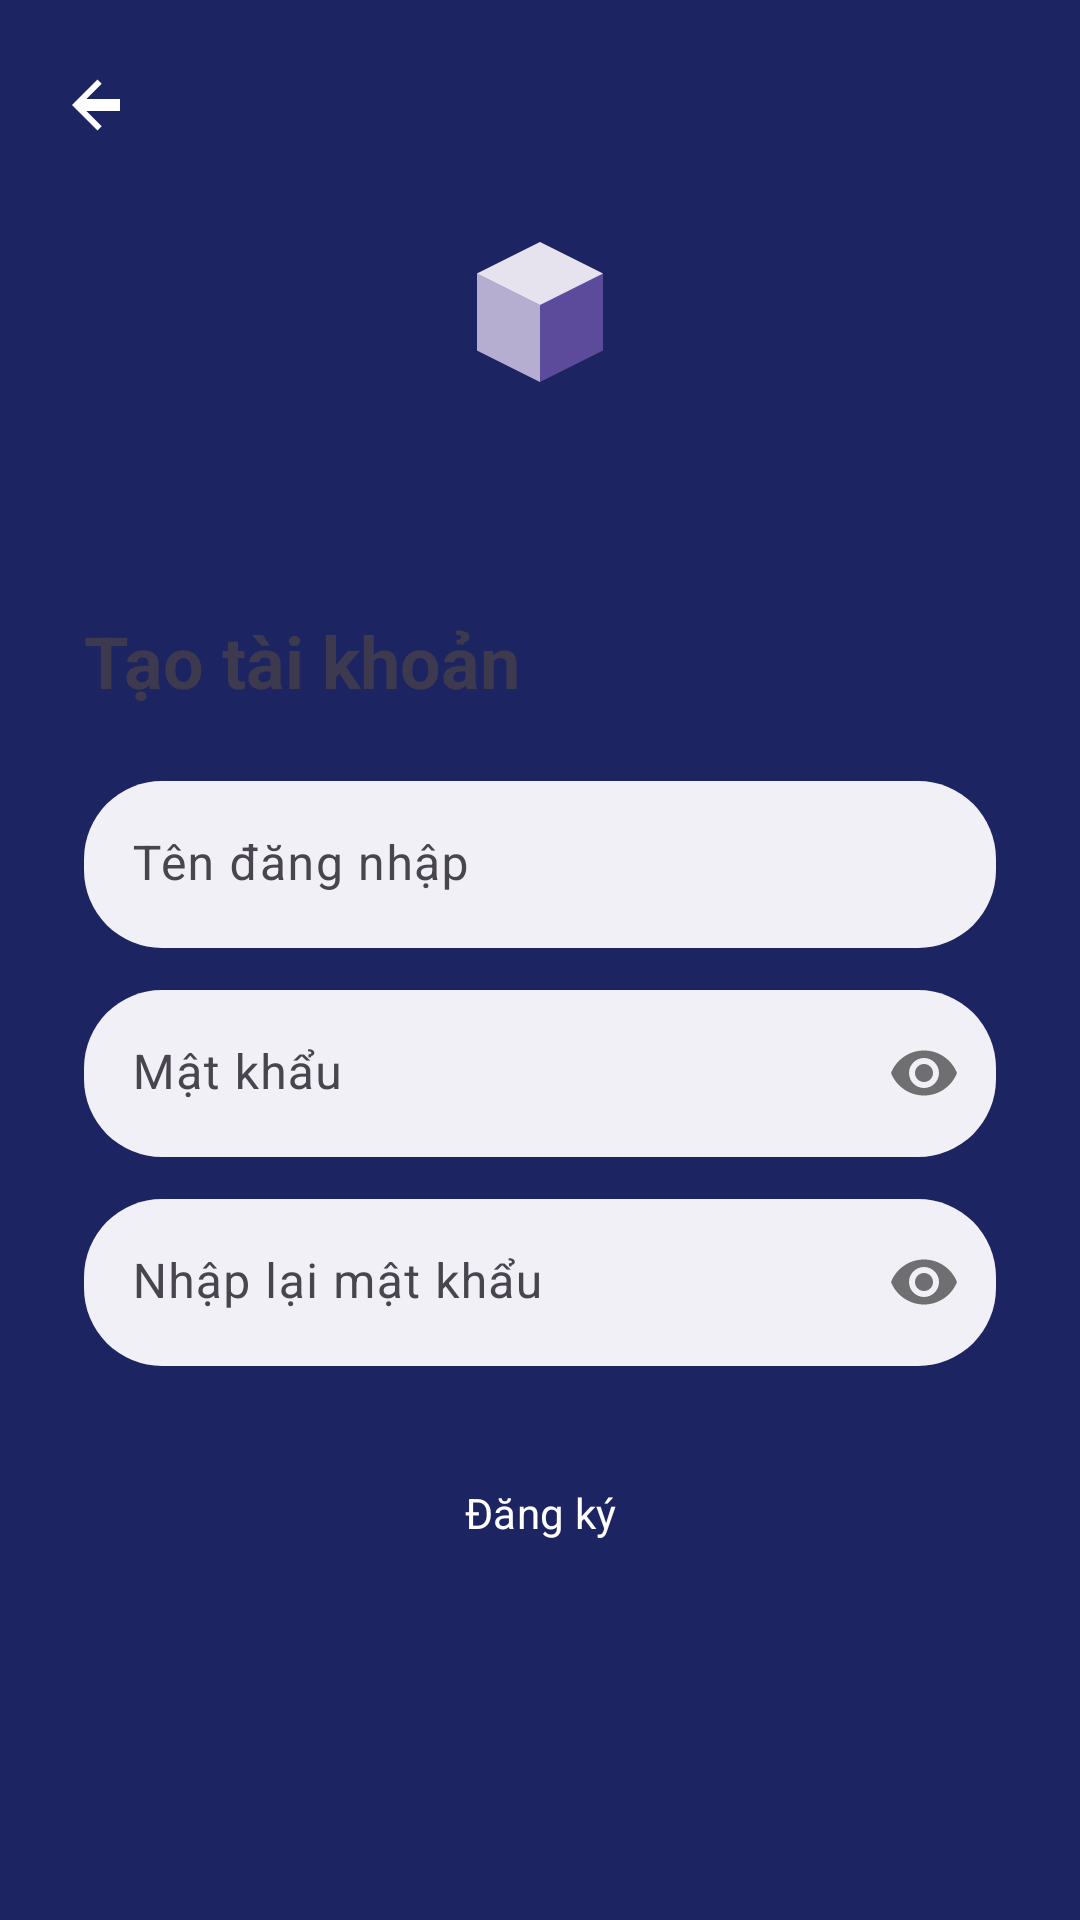

Point at icon controls on the screen. Image size 1080px×1920px, points as (x=x, y=y).
Quay lại: (x=96, y=105)
